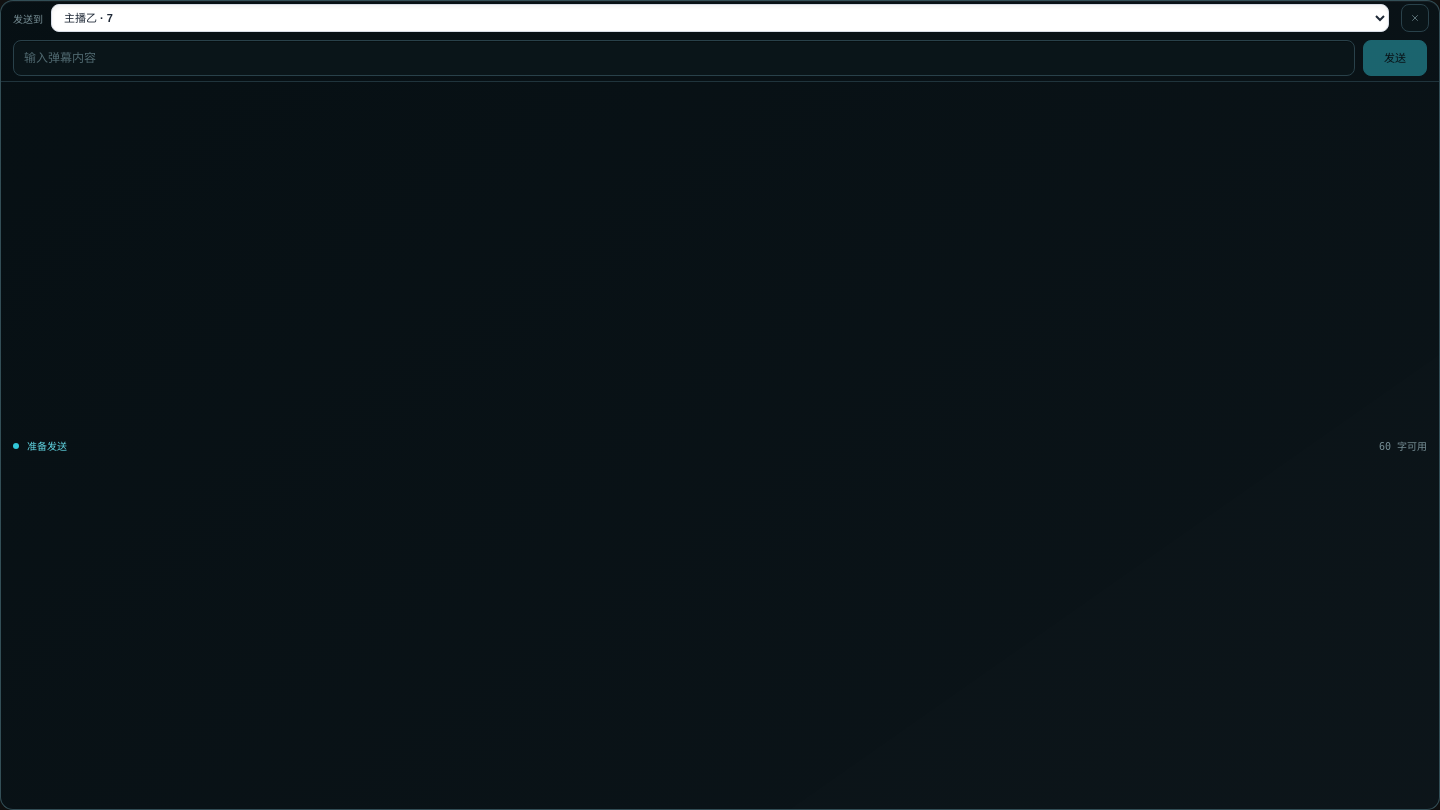
Test: rolls back the target selection and shows danger when persistence fails
Select "主播甲 · 6" in the dropdown named "发送目标直播间": (720, 18) [51, 4, 1389, 32]
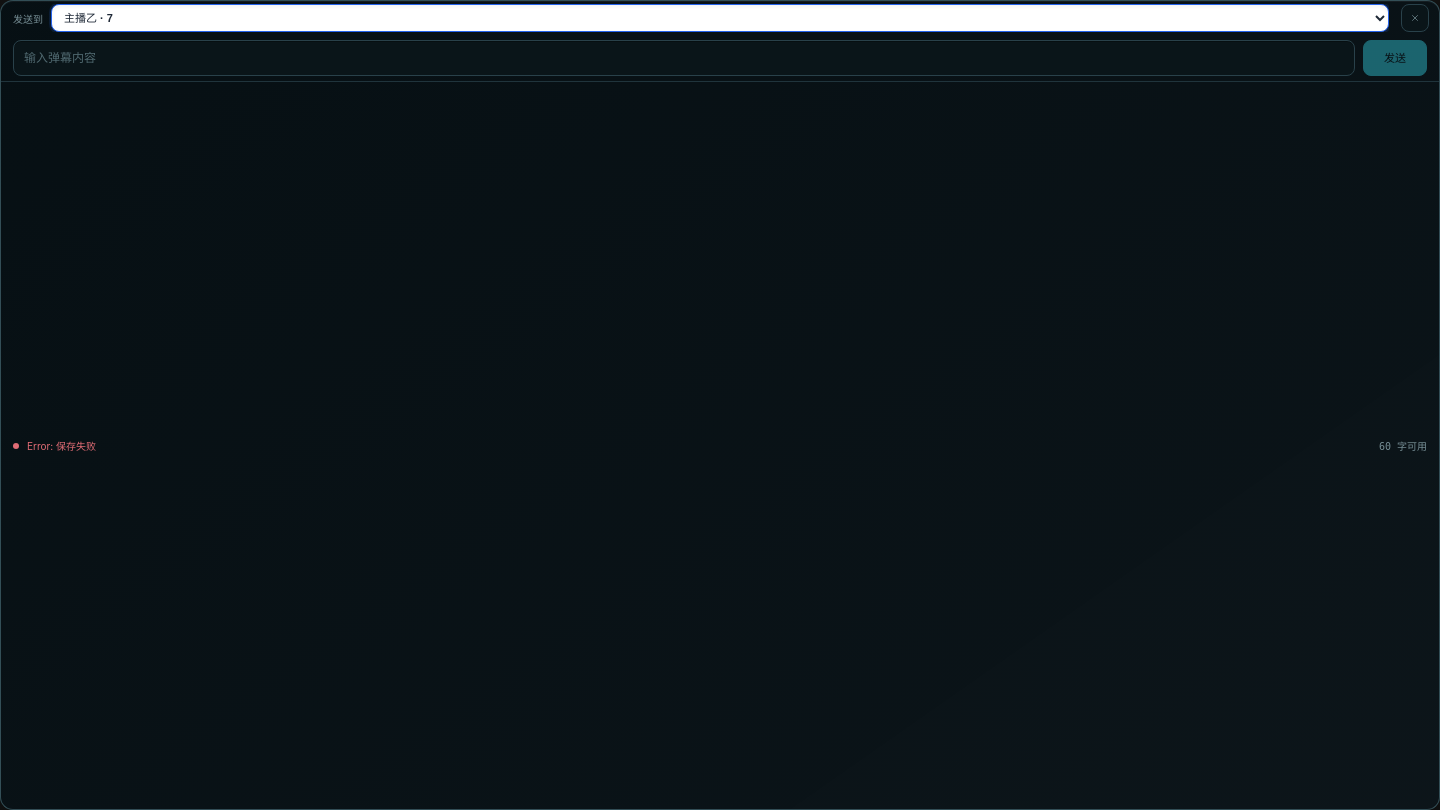
Now the text "Error: 保存失败" is shown, box [27, 438, 96, 453]
